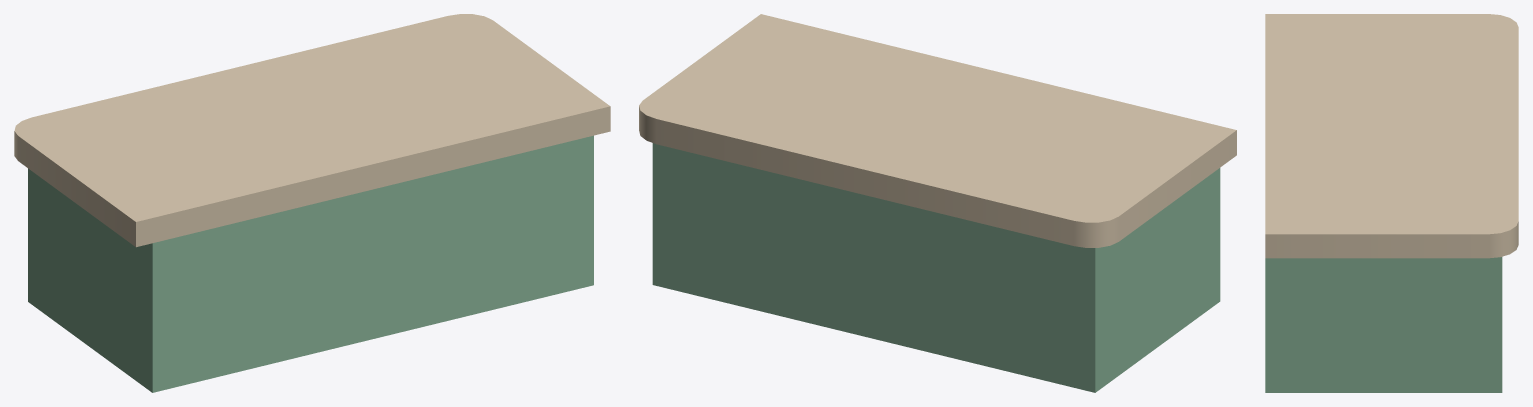
The model's file is TableB2_geo.fbx.
3 renders of one model, left to right at view 1: azimuth 30°, elevation 25°; view 2: azimuth 150°, elevation 25°; view 3: azimuth 270°, elevation 25°, orthographic. The views are drawn at different scales.
Visible parts, largest first — view 1: TableB2_geo; view 2: TableB2_geo; view 3: TableB2_geo.
Part boxes in pixels (box(x1,y1,x2,y2)): TableB2_geo: box(14, 14, 610, 392); TableB2_geo: box(639, 14, 1236, 392); TableB2_geo: box(1265, 14, 1518, 392).
Size of the model in its own units: 1.93 by 0.9396 by 0.6803.
